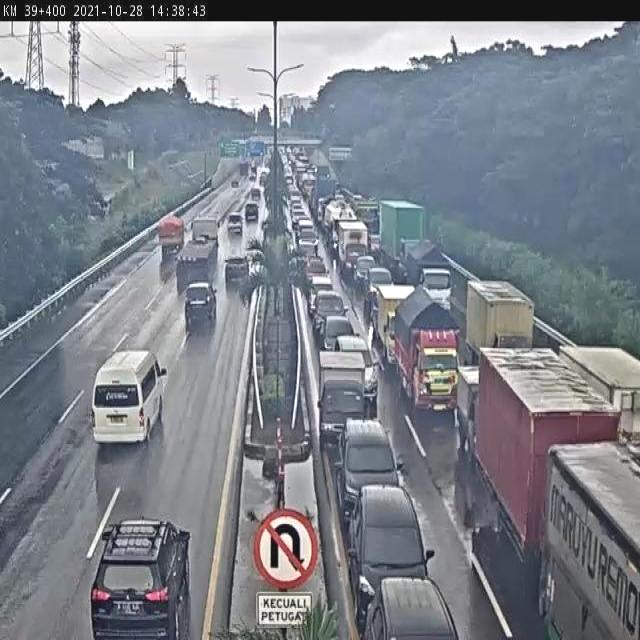Car: (89, 519, 192, 632), (347, 482, 429, 606), (362, 571, 460, 640), (338, 413, 402, 501), (334, 336, 376, 414), (184, 284, 220, 322), (223, 258, 252, 288), (226, 210, 245, 237)
Truck: (478, 342, 621, 568), (537, 446, 640, 638), (394, 281, 461, 417), (464, 280, 536, 360), (317, 352, 370, 447), (378, 281, 422, 364), (404, 244, 451, 311), (378, 202, 425, 268), (176, 218, 222, 280), (155, 214, 186, 259)
Van: (90, 346, 168, 453)
